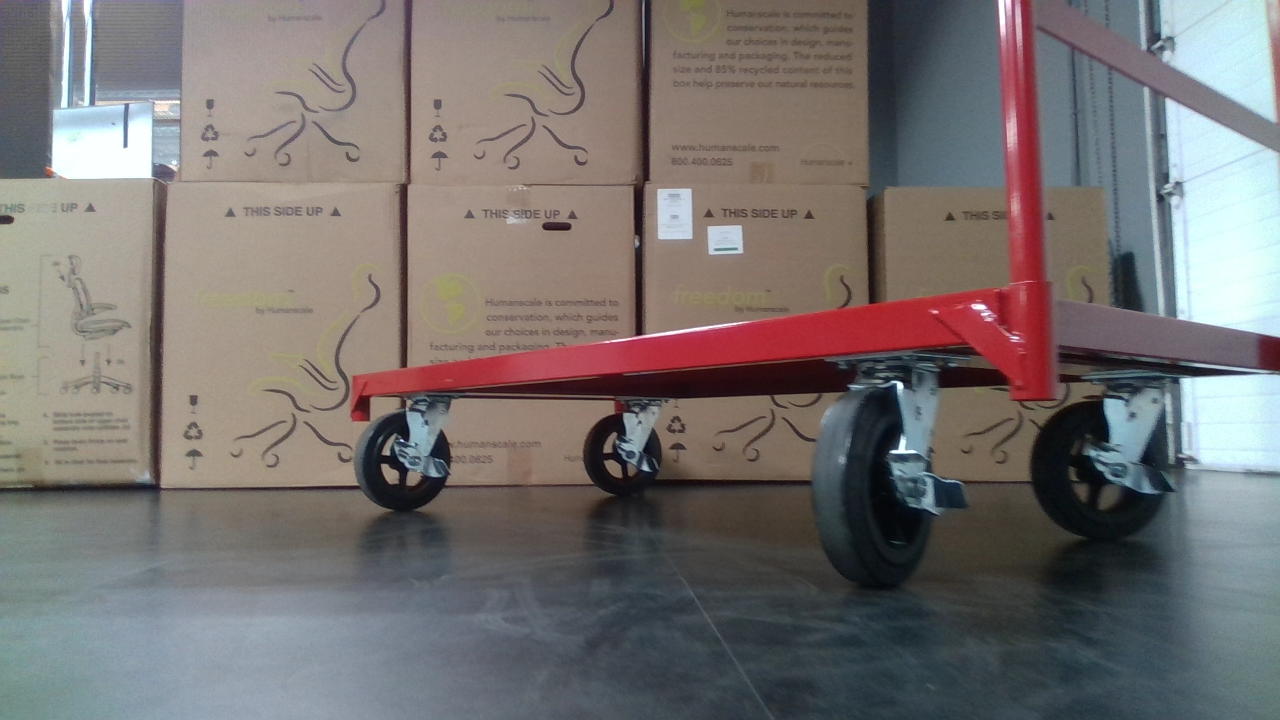Dolly: (343, 0, 1279, 595)
Wheel: (807, 378, 943, 591), (1028, 397, 1171, 544), (351, 407, 455, 513), (581, 411, 664, 496)
